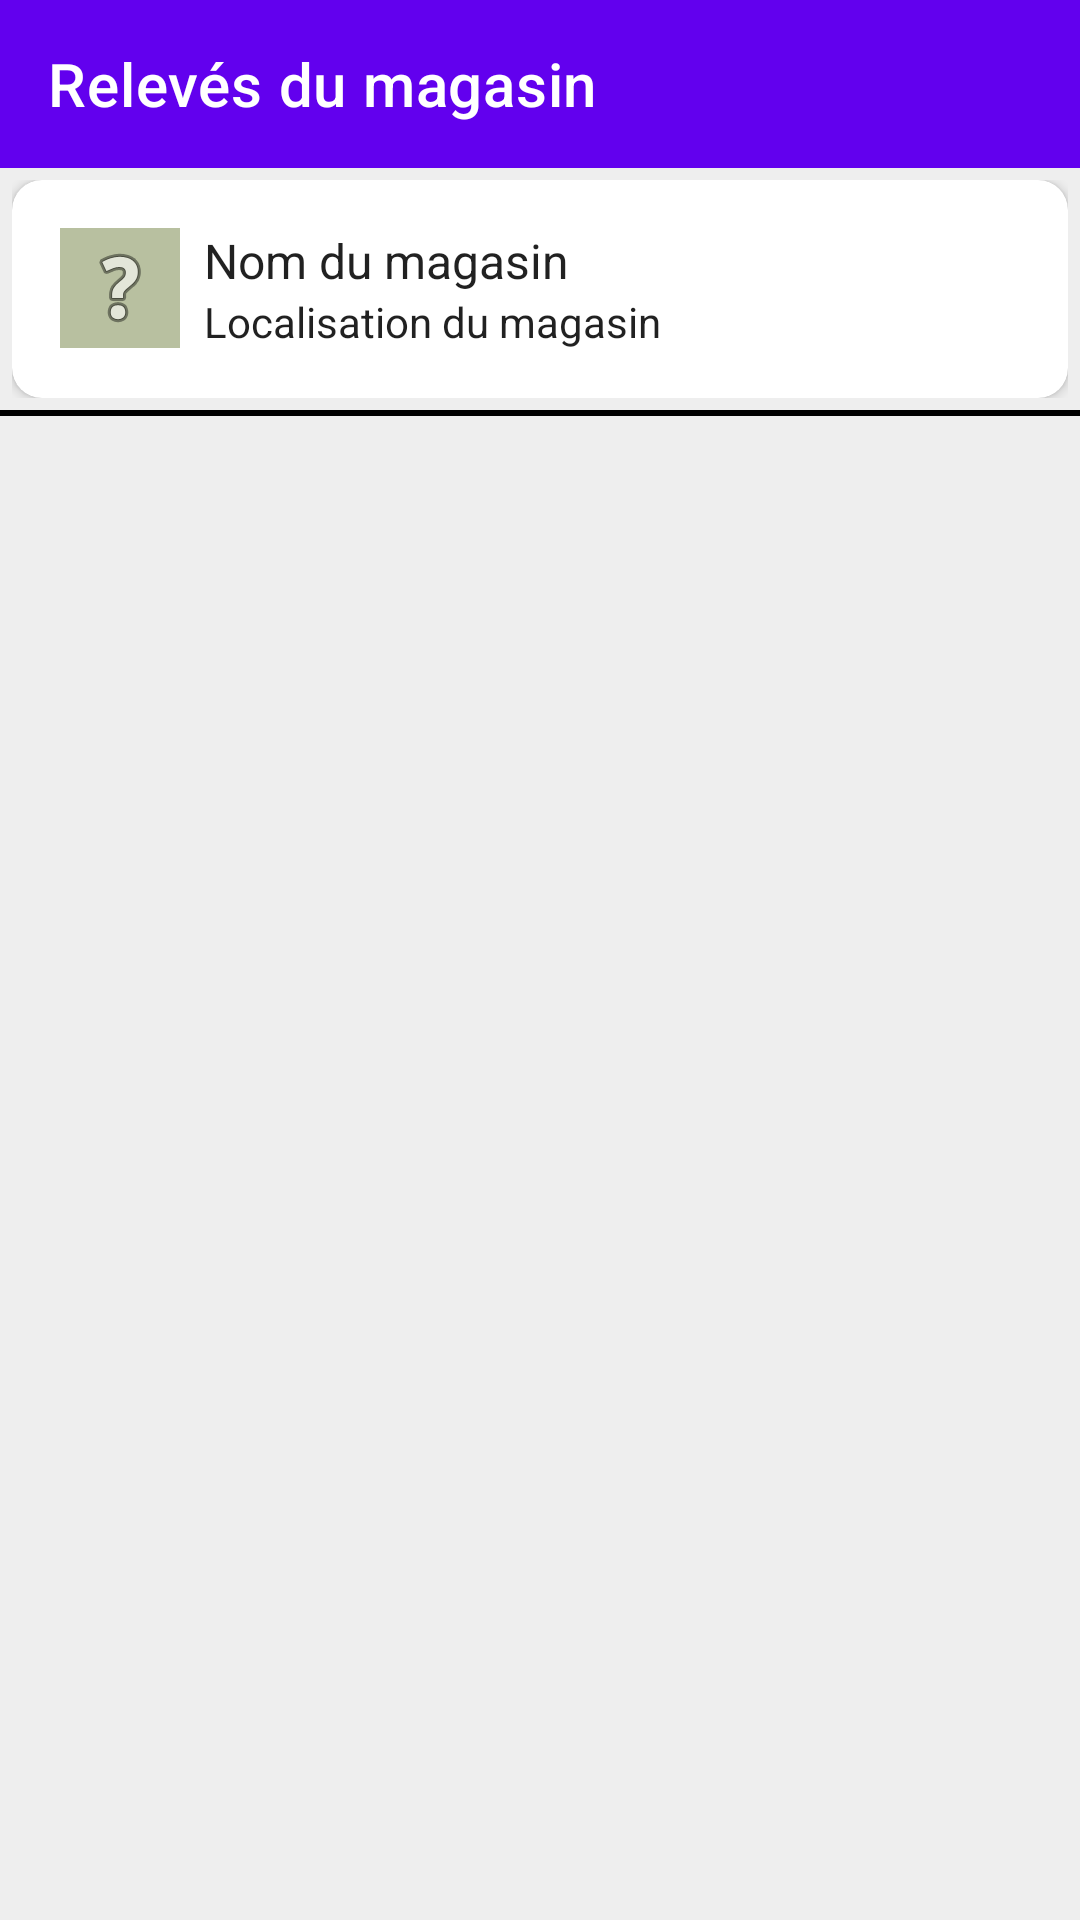

Icon bounding boxes for this 1080 × 1920 phone screenshot, format (x1, y1, x2, y2):
help: (60, 228, 180, 348)
